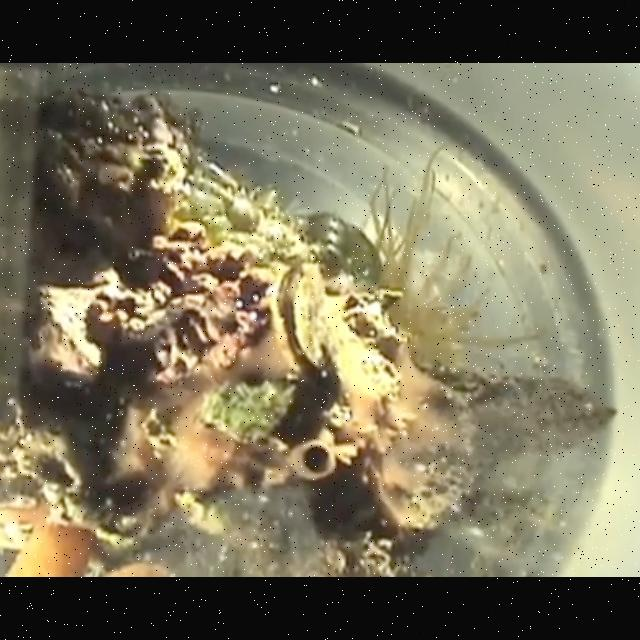Oyster-Open: (268, 258, 328, 378)
